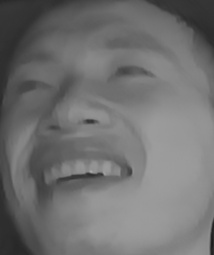eye: (110, 58, 159, 88), (6, 73, 56, 100)
mouth: (23, 146, 134, 204)
